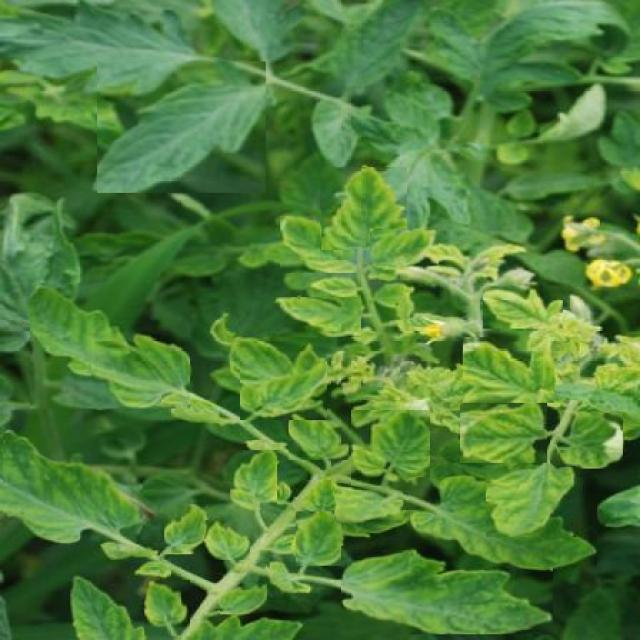Healthy: (97, 61, 266, 193)
Yellow Leaf Curl Virus: (30, 282, 190, 409), (340, 546, 553, 635), (409, 477, 597, 569), (3, 432, 143, 544), (322, 167, 407, 250), (486, 466, 576, 537), (350, 411, 430, 488), (464, 338, 555, 403), (460, 403, 547, 463), (240, 361, 327, 420), (280, 216, 358, 273), (557, 413, 623, 468), (483, 286, 563, 328), (276, 297, 360, 337), (288, 409, 348, 460), (228, 450, 278, 510), (296, 512, 348, 565), (334, 486, 403, 524), (371, 228, 439, 266), (144, 580, 190, 636), (164, 504, 209, 554), (204, 520, 250, 560), (220, 584, 267, 615)
